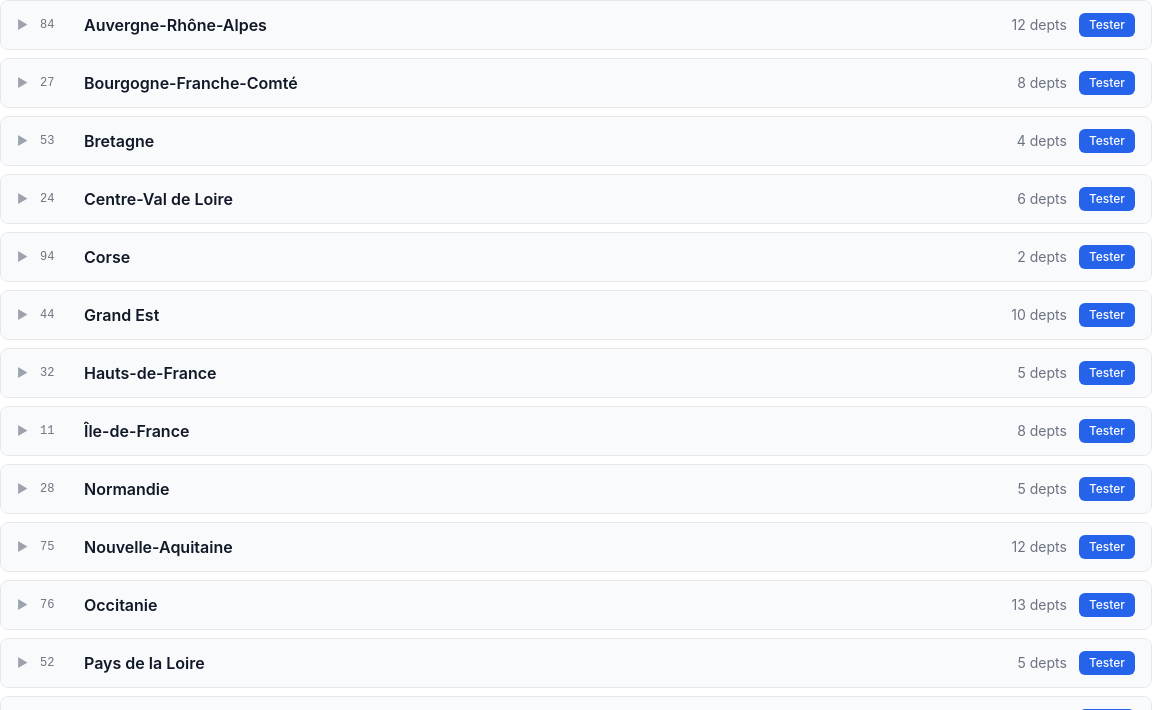
Test case: AccordionRegions – interaction › deux accordéons peuvent être ouverts simultanément
Click the button "▶ 11 Île-de-France". click: [137, 431]
box: [17,419,1005,443]
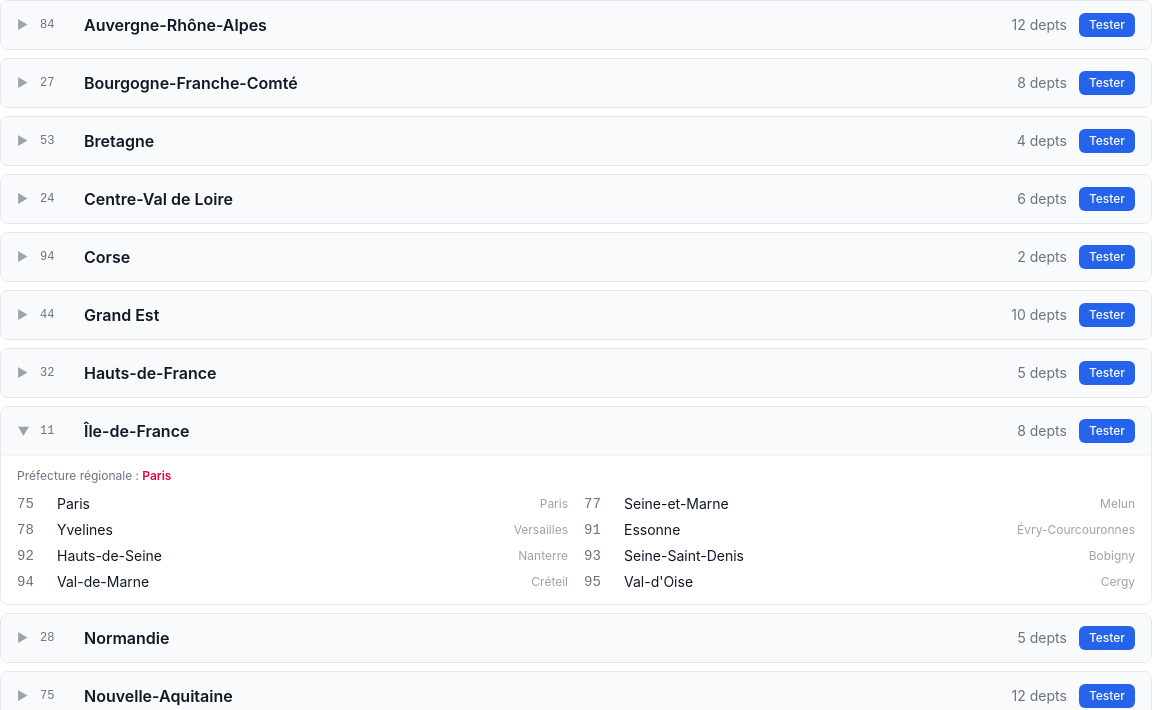
Click the button "▶ 53 Bretagne". click: [119, 141]
box: [17,129,1005,153]
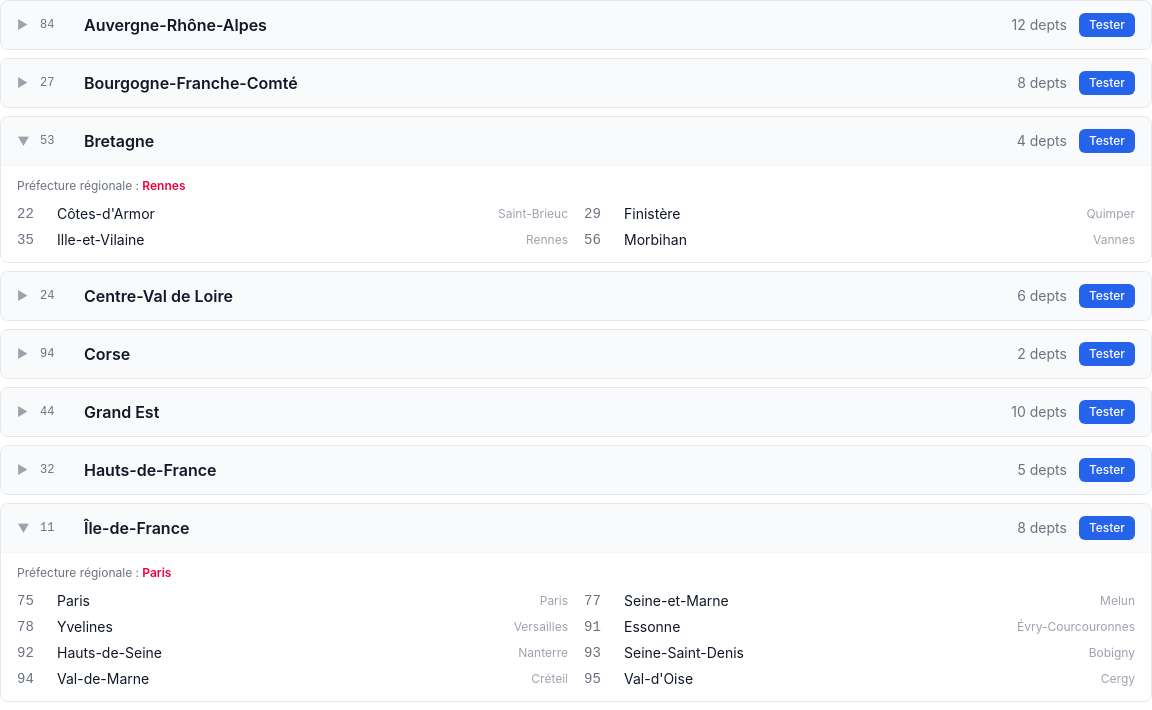
Now the button "▶ 11 Île-de-France" is expanded, box [17,516,1005,540]
Now the button "▶ 53 Bretagne" is expanded, box [17,129,1005,153]
